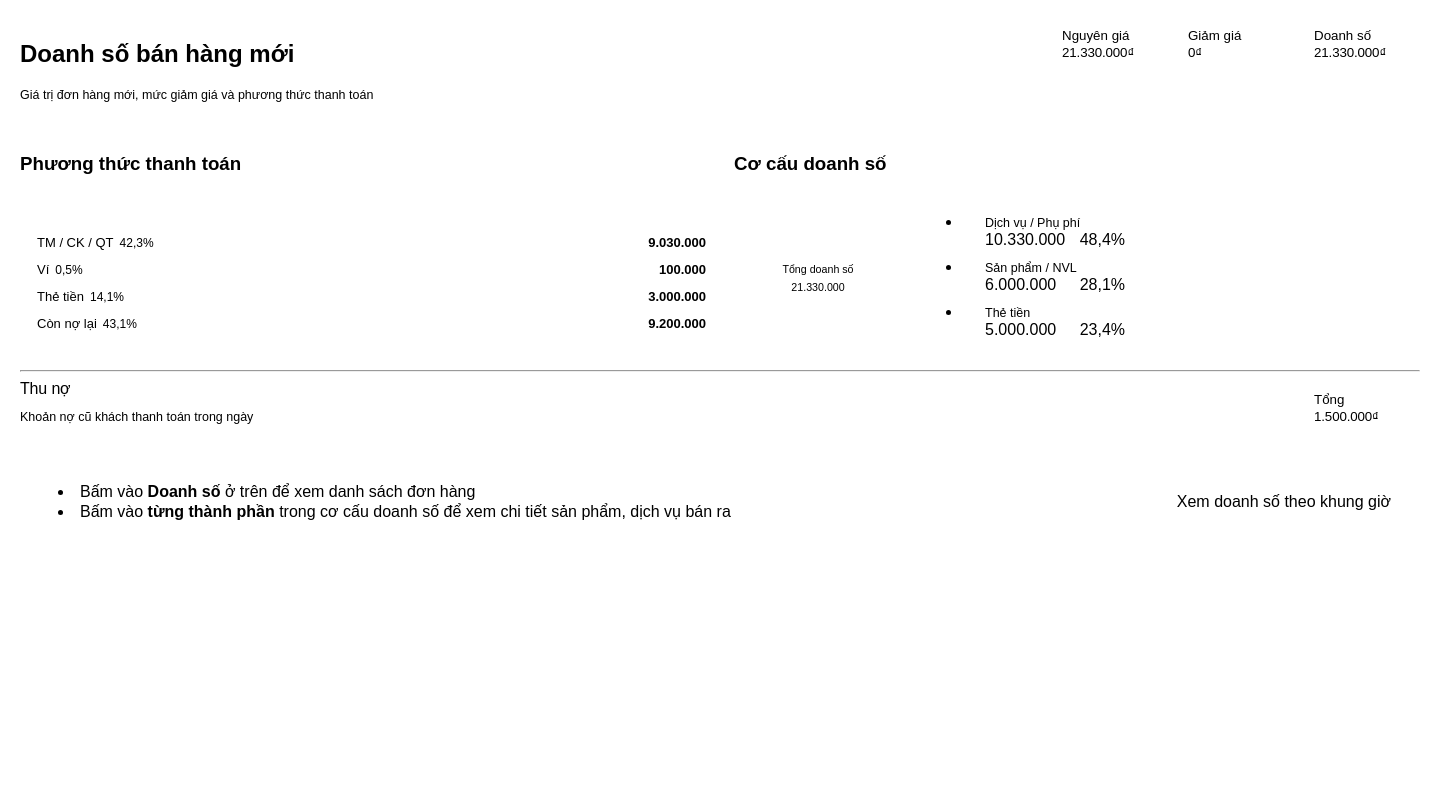
Tổng quan cơ sở – các phần › bấm vào biểu đồ tròn (tổng doanh số): popup toàn bộ chi tiết bán hàng
Click the button with aria-label "Xem tất cả chi tiết — Tổng doanh số": (818, 278) [734,194,902,362]
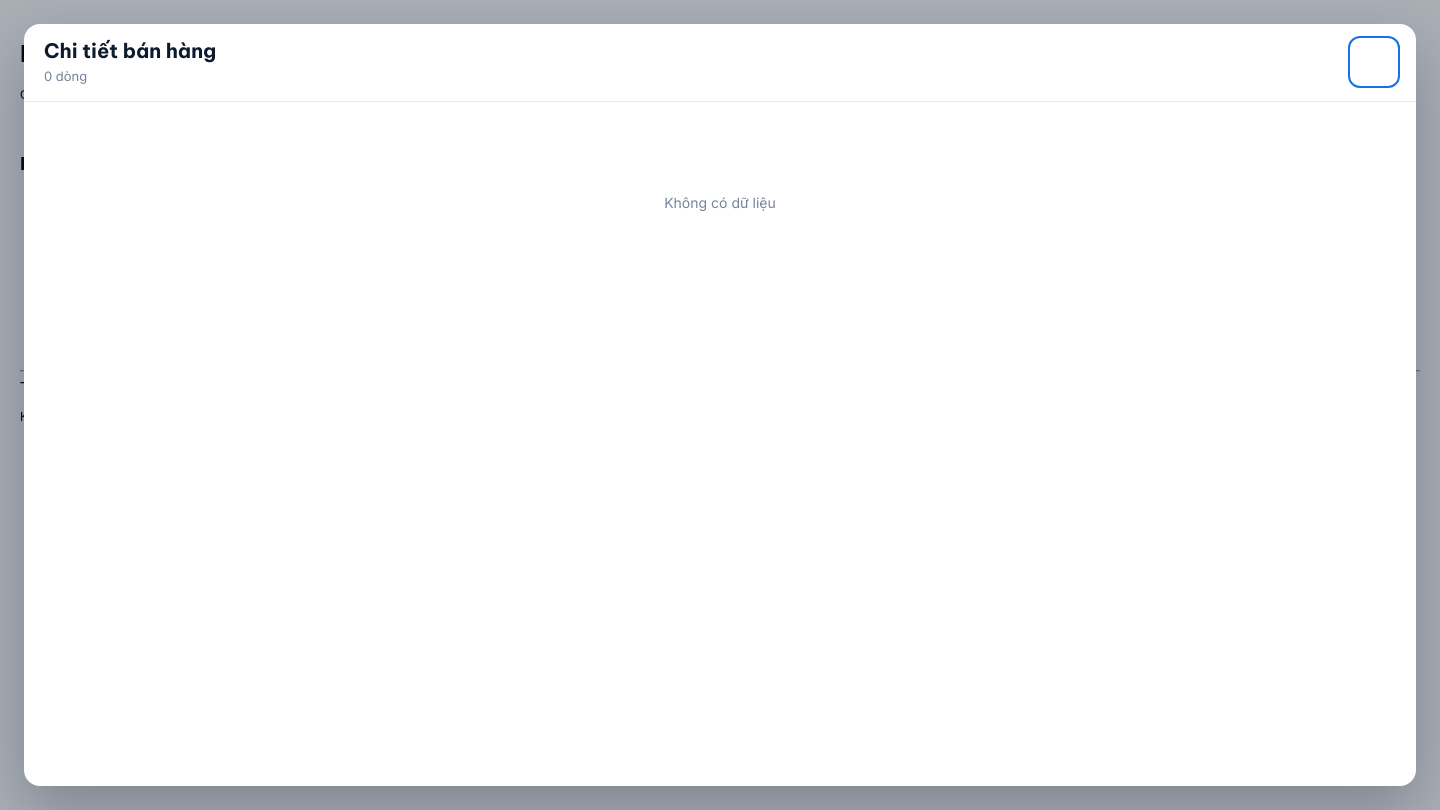
Check: the dialog "Chi tiết bán hàng" is shown
